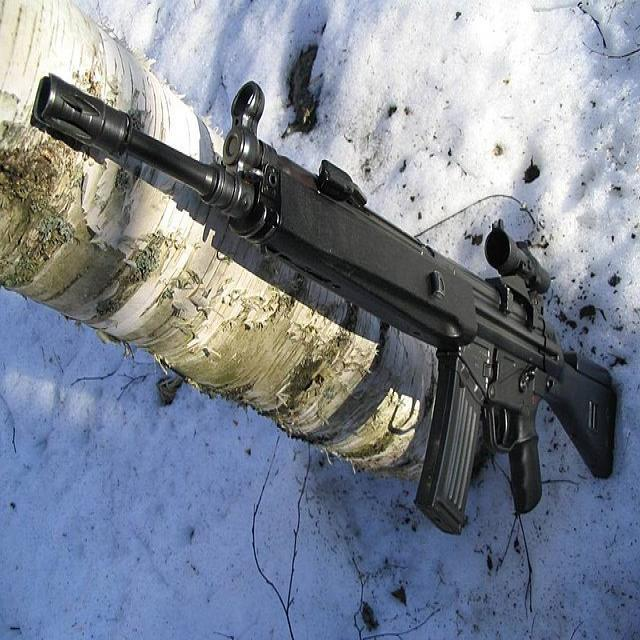m16: (28, 29, 626, 578)
